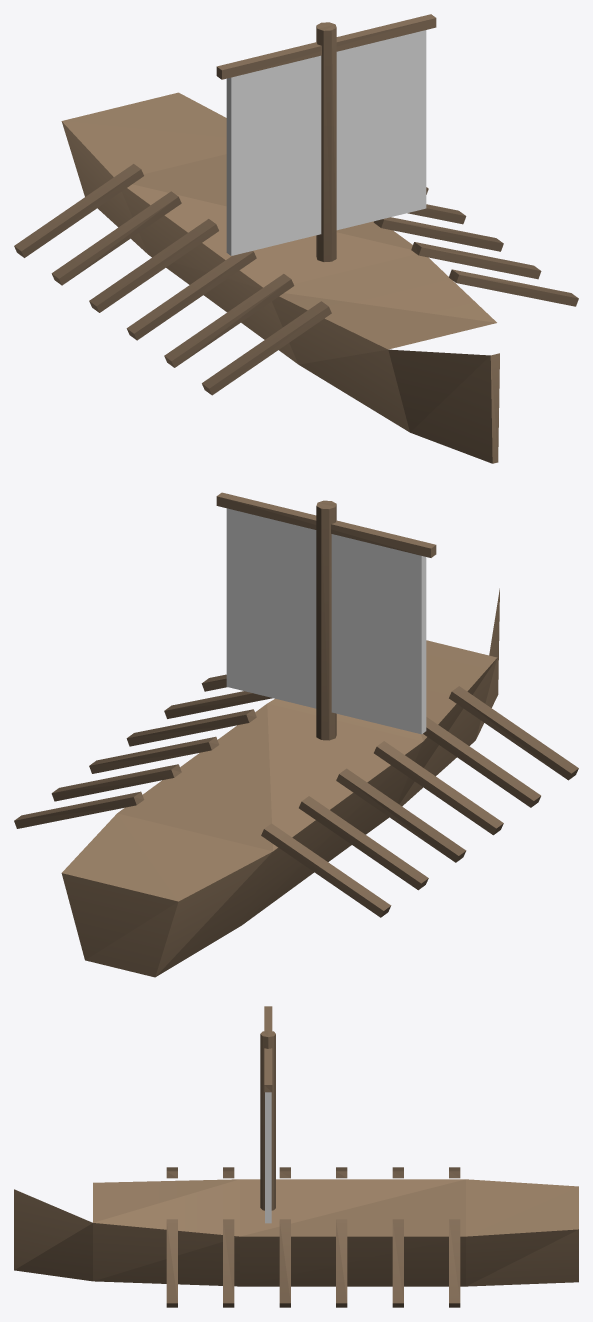
Rendered from Trireme.glb.
3 renders of one model, top to bottom at view 1: azimuth 30°, elevation 25°; view 2: azimuth 150°, elevation 25°; view 3: azimuth 270°, elevation 25°, orthographic. The views are drawn at different scales.
Visible parts, largest first — view 1: Body; view 2: Body; view 3: Body.
Part boxes in pixels (box(x1,y1,x2,y2)): Body: box(14, 14, 578, 463); Body: box(14, 492, 578, 977); Body: box(14, 1006, 578, 1307).
Bounding box in the file's own units: 0.5689 × 0.46 × 1.
